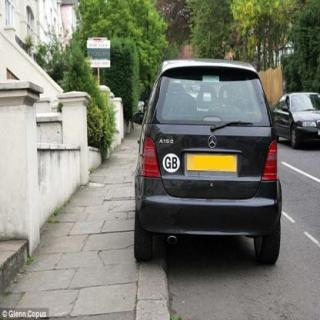Normal_vehicle: (134, 59, 281, 263)
